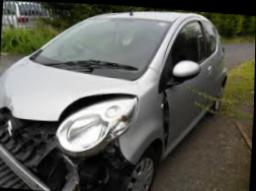Bonnet: (0, 82, 139, 135)
Bumper: (0, 121, 135, 191)
Door: (163, 80, 189, 150)
